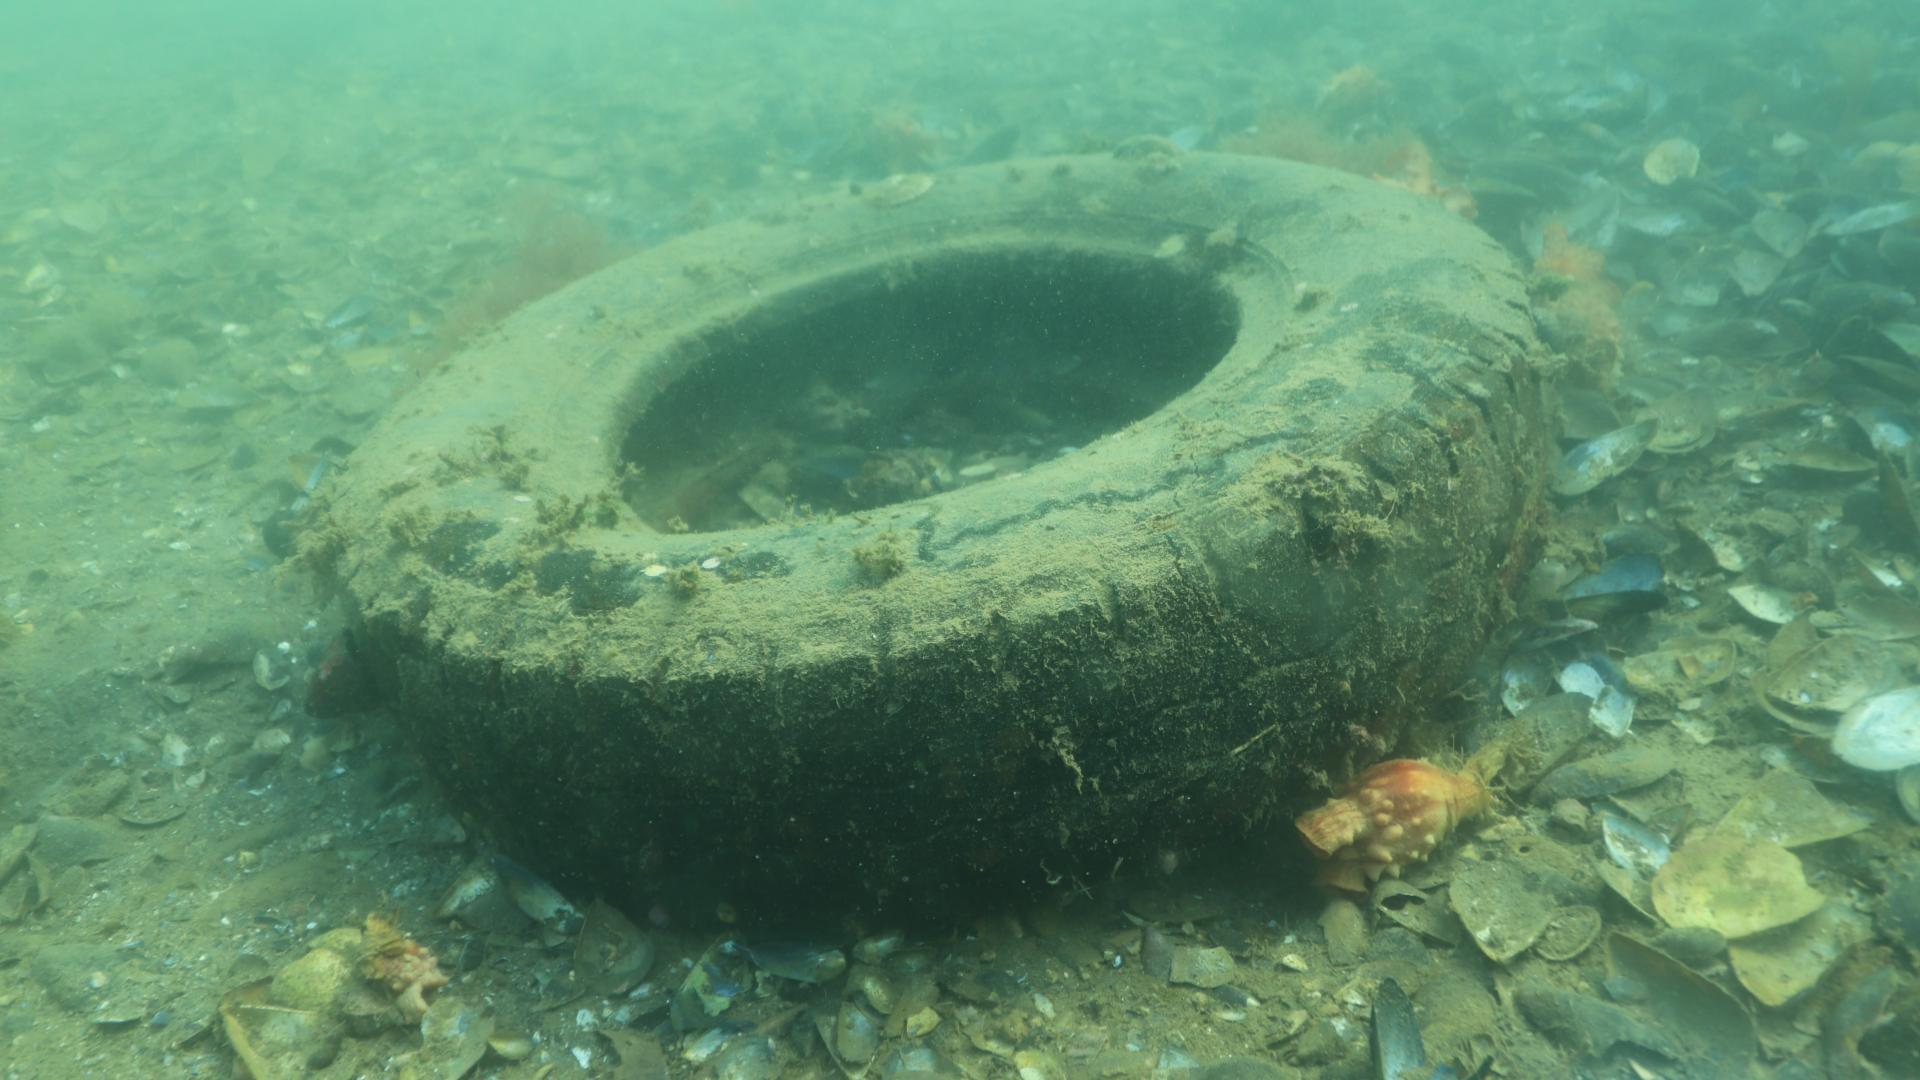tire: (322, 148, 1552, 940)
